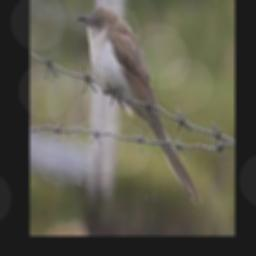Cuckoo: (77, 6, 203, 203)
